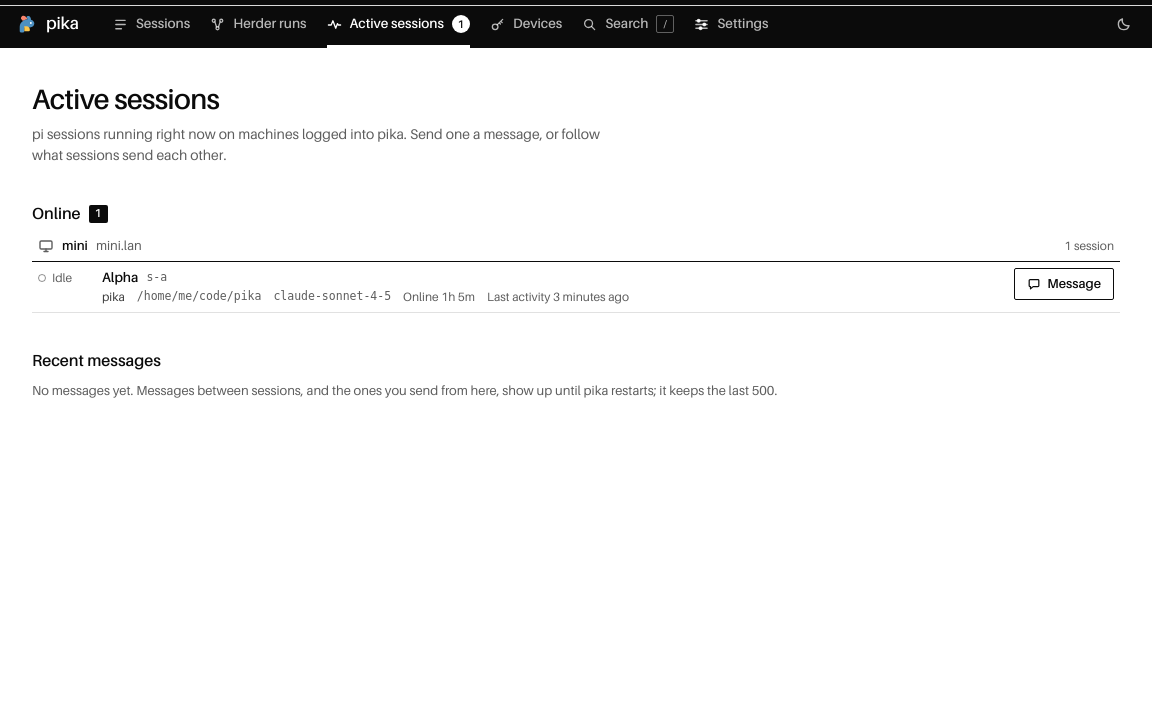
it: message composer › sends with Cmd+Enter, marks urgent, and reports a queued message
Click the button with aria-label "Message Alpha": (1064,284) top-left (1014, 268), bottom-right (1114, 300)
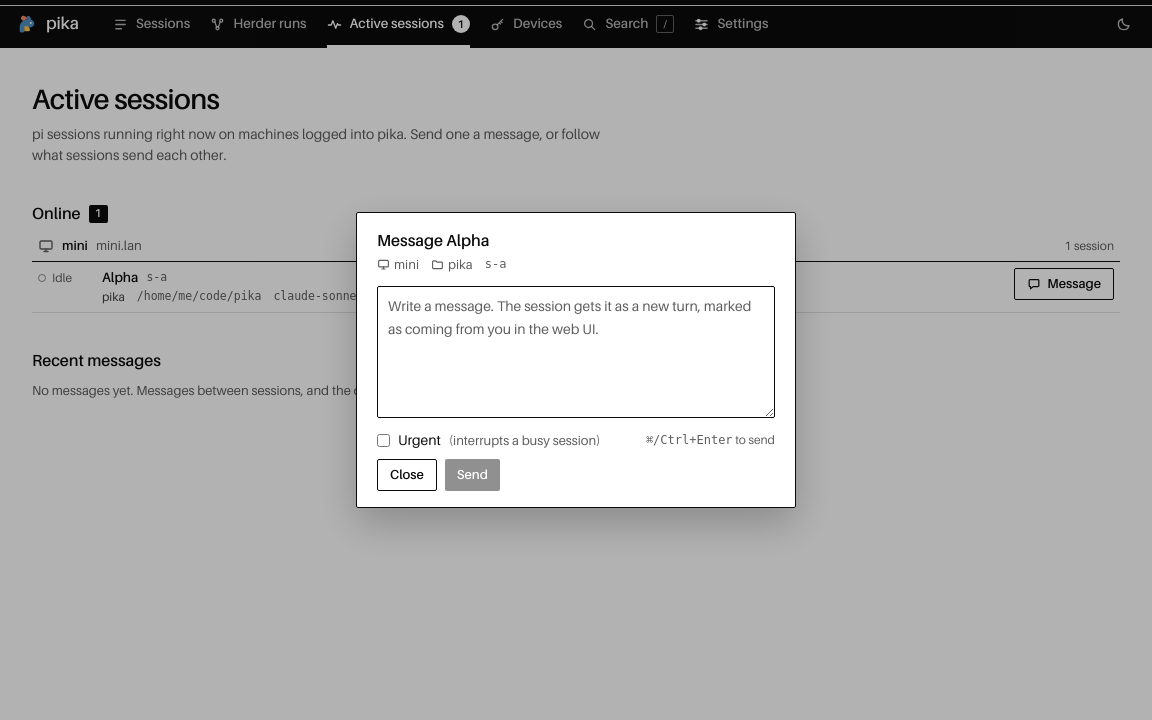
Replace the text in the text box named "Message text" with "Stop and check the logs.": (576,352) top-left (377, 286), bottom-right (775, 418)
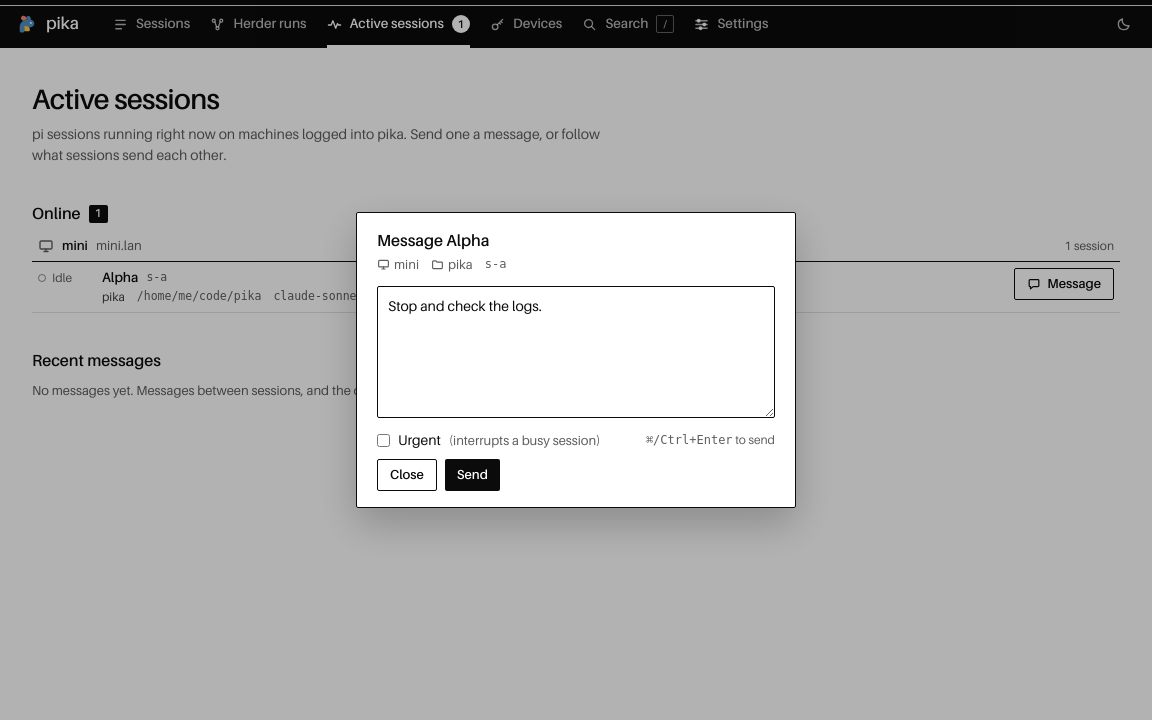
Click the checkbox labelled "Urgent (interrupts a busy session)": (384,441) top-left (377, 434), bottom-right (390, 447)
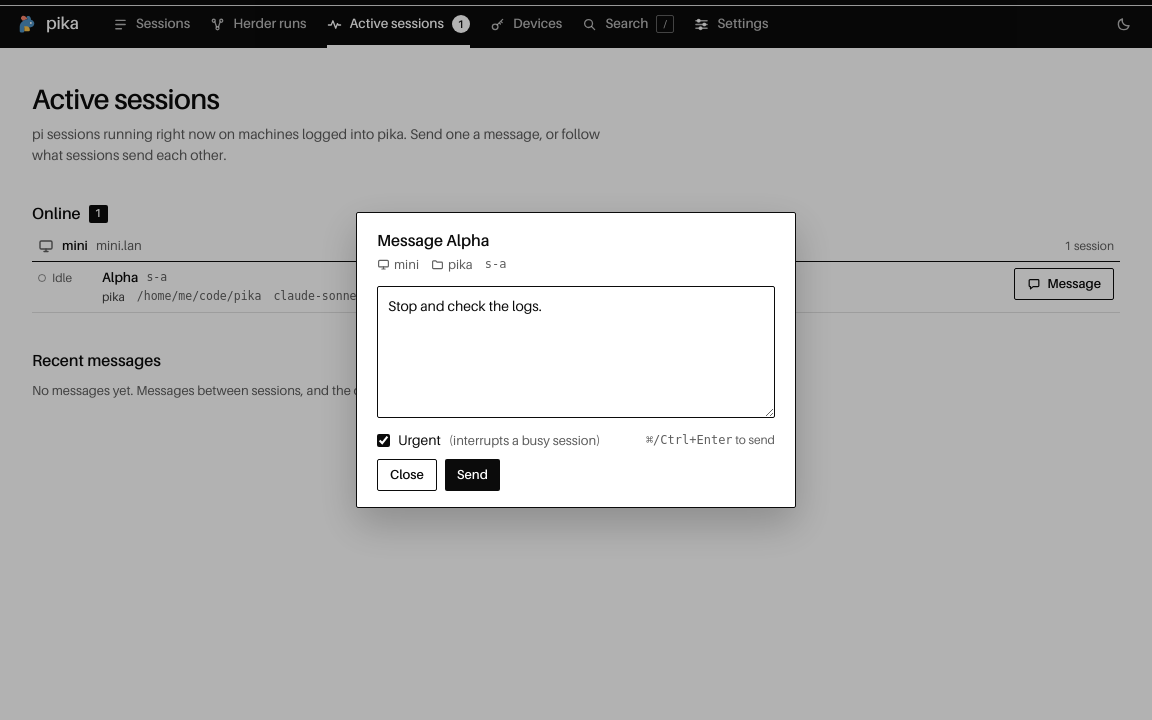
Press Enter in the text box named "Message text", box top-left (377, 286), bottom-right (775, 418)
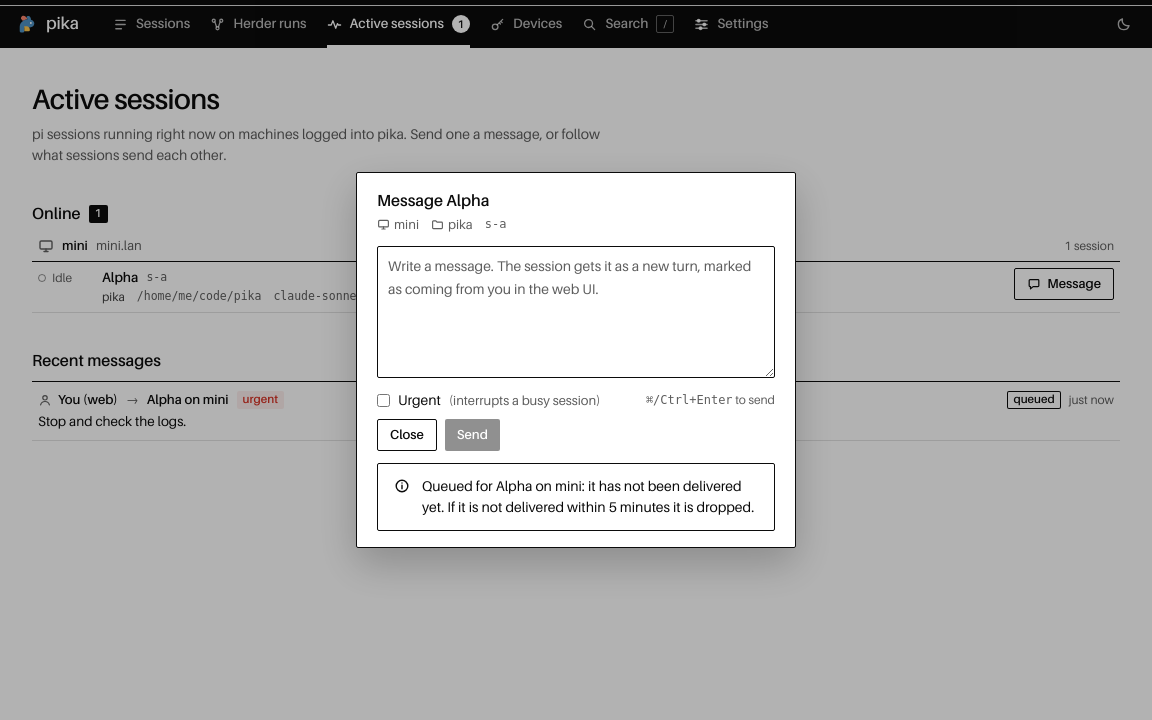
Check: the checkbox labelled "Urgent (interrupts a busy session)" is not checked, box top-left (377, 394), bottom-right (390, 407)
Check: the text "Queued for Alpha on mini: it has not been delivered yet." shows "within 5 minutes it is dropped", box top-left (422, 478), bottom-right (754, 515)
Check: the text "queued" is shown, box top-left (1007, 391), bottom-right (1061, 409)
